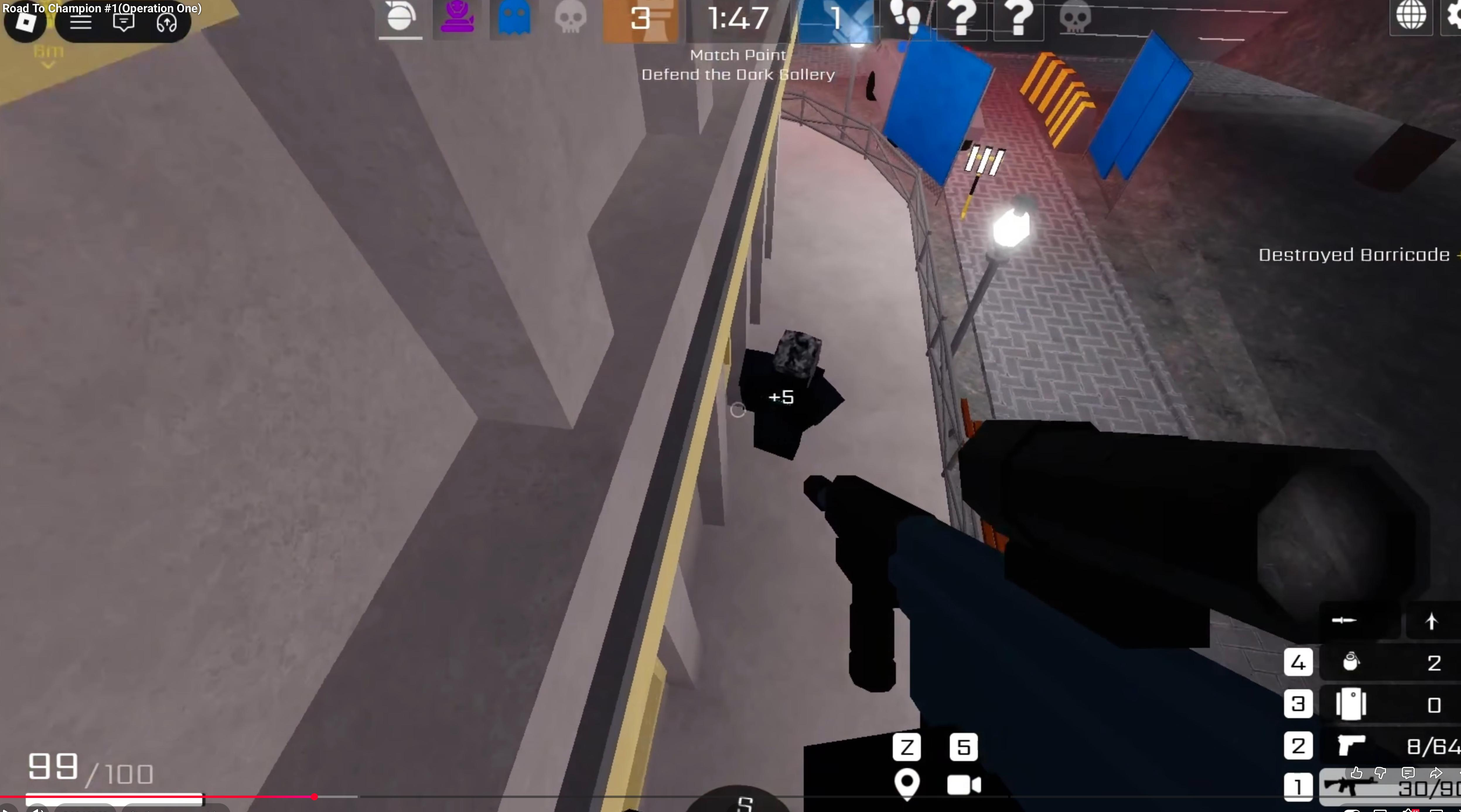enemy: (726, 321, 847, 474)
